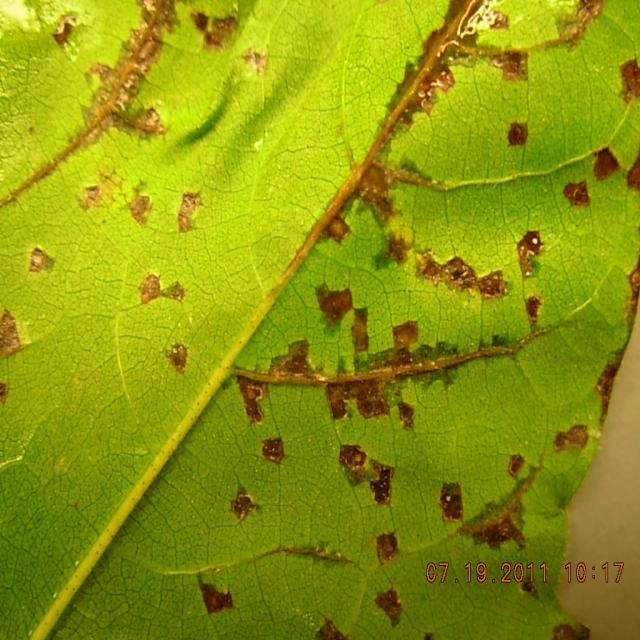Bacterial Blight: (334, 52, 570, 496), (27, 19, 232, 267)
